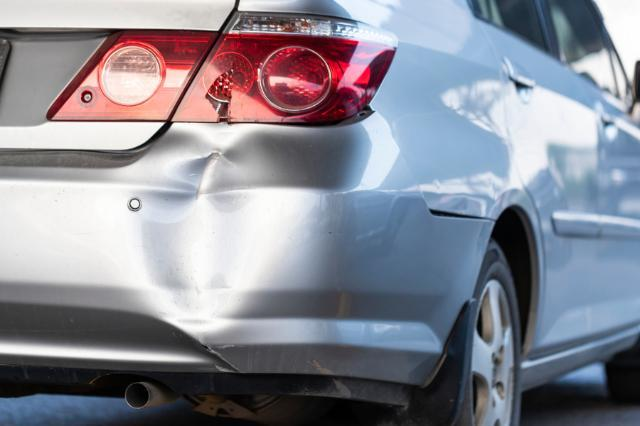Bumper: (126, 126, 475, 357), (195, 9, 387, 128)
